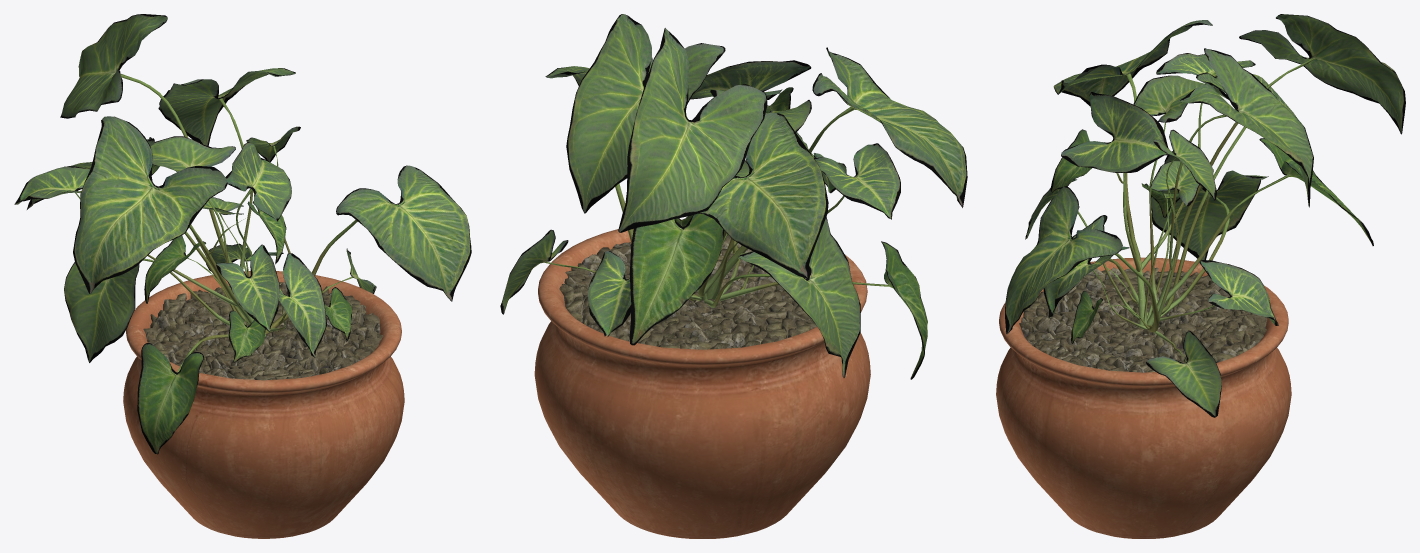
The model's file is potted_plant_02.glb.
3 renders of one model, left to right at view 1: azimuth 30°, elevation 25°; view 2: azimuth 150°, elevation 25°; view 3: azimuth 270°, elevation 25°, orthographic. The views are drawn at different scales.
Parts seen in each view (by area): view 1: potted_plant_02_leaves, potted_plant_02_pot; view 2: potted_plant_02_leaves, potted_plant_02_pot; view 3: potted_plant_02_pot, potted_plant_02_leaves.
Boxes of the visible parts, x1,y1,x2,y2 form: potted_plant_02_leaves: (14,14,471,454); potted_plant_02_pot: (123,271,404,538); potted_plant_02_leaves: (500,14,967,379); potted_plant_02_pot: (534,219,870,538); potted_plant_02_pot: (996,257,1291,538); potted_plant_02_leaves: (1005,14,1405,417).
Bounding box in the file's own units: 0.7012 × 0.8412 × 0.6574.
2 materials, 2 textured.
